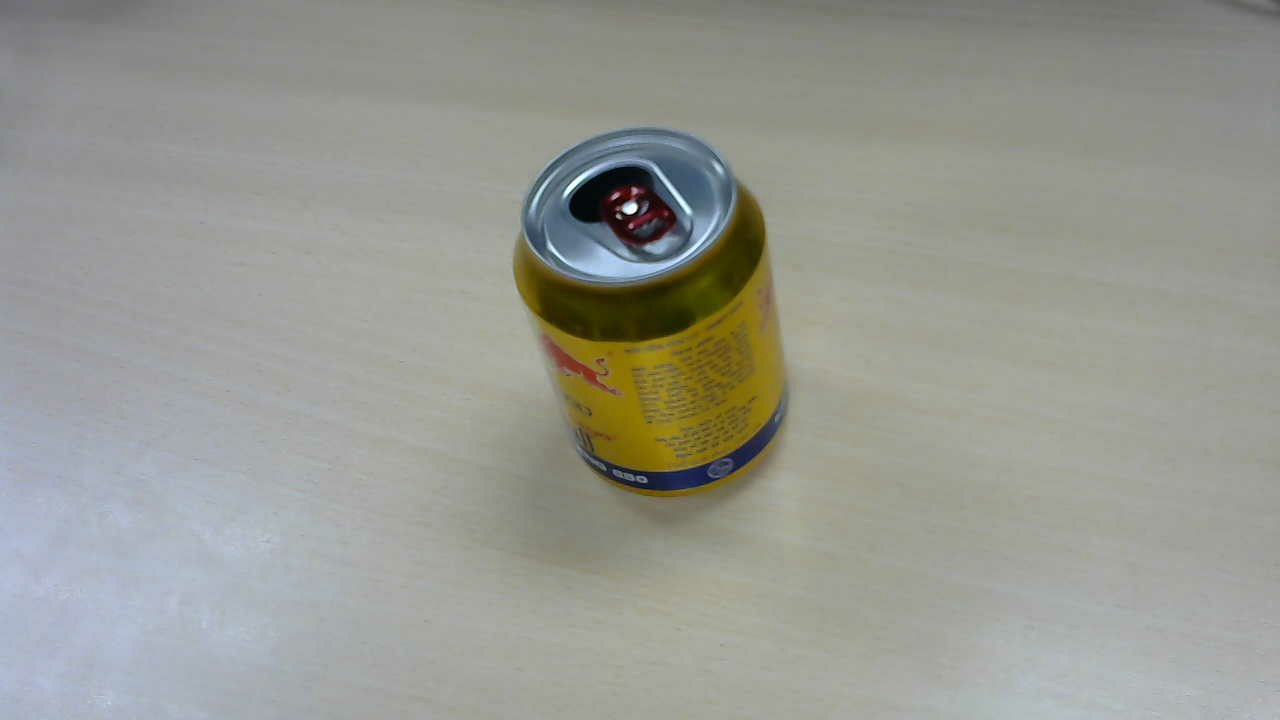Red_Bull: (515, 132, 795, 498)
